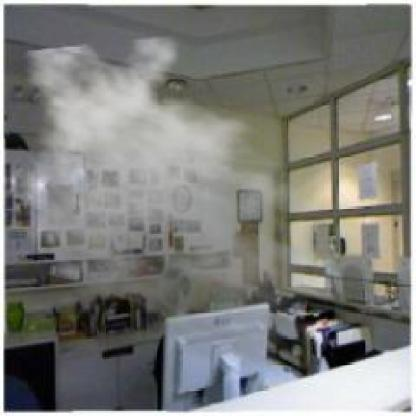Smoke: (0, 34, 352, 372)
